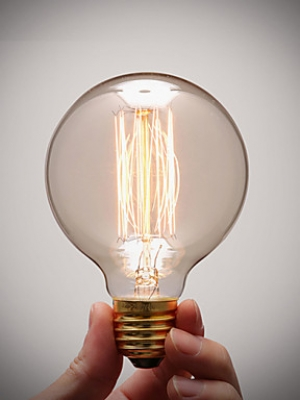Light_bulb: (36, 65, 258, 375)
